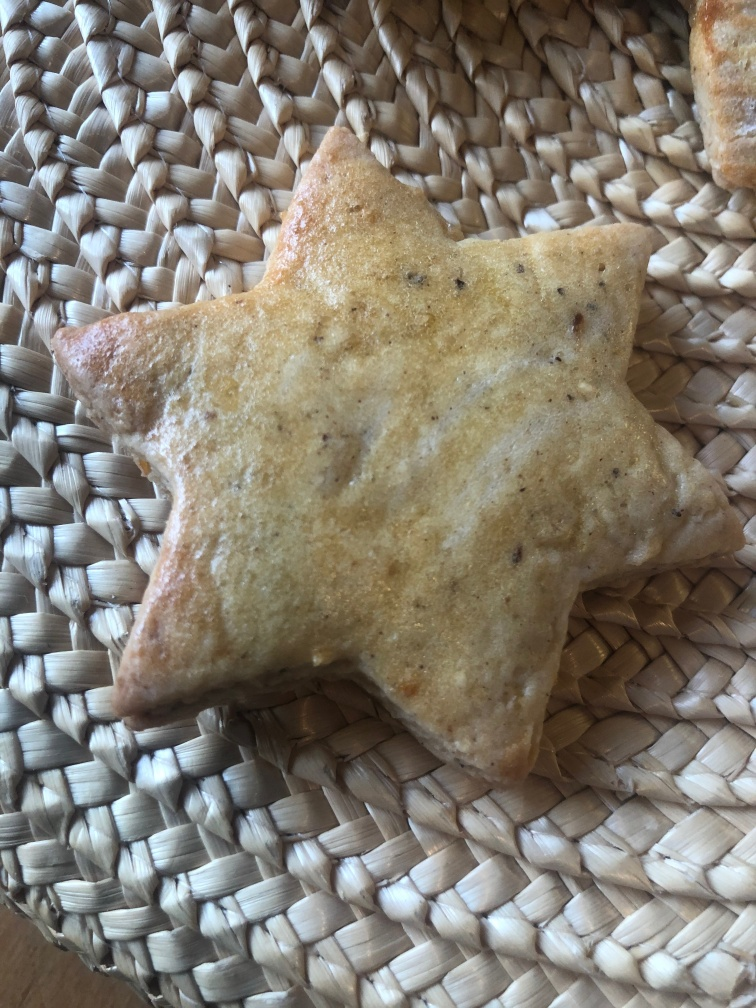star: (49, 116, 746, 793)
